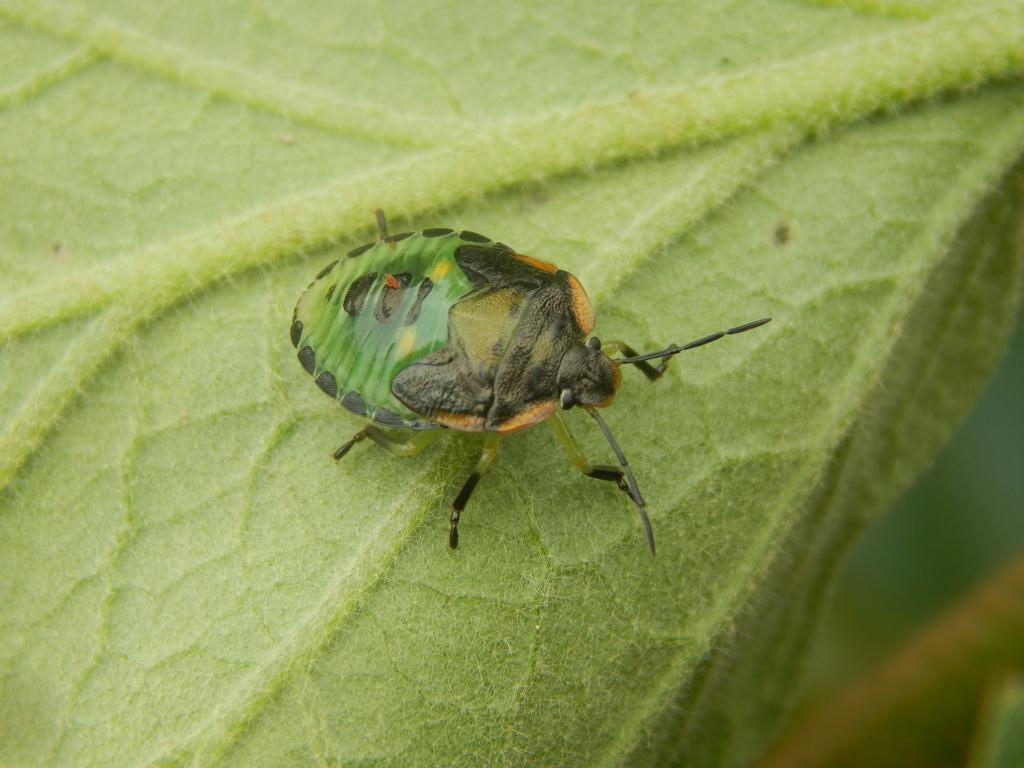stink_bugs: (224, 172, 791, 605)
